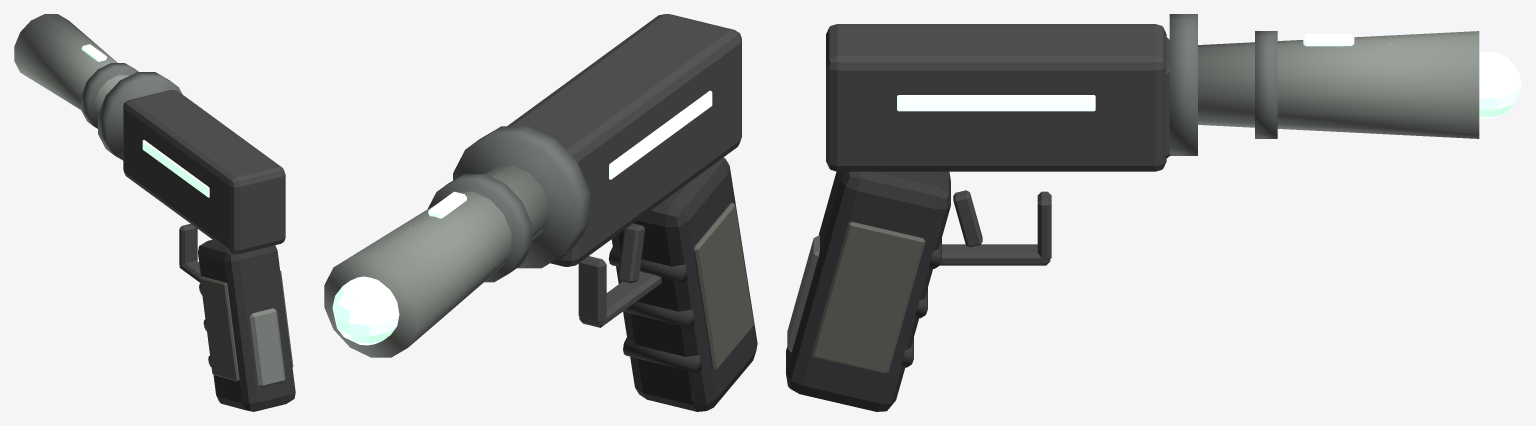
Rendered from plasma_pistol.glb.
3 views of the same model, side by side, from view 1: azimuth 30°, elevation 25°; view 2: azimuth 150°, elevation 25°; view 3: azimuth 270°, elevation 25° (orthographic). The views are drawn at different scales.
Visible parts, largest first — view 1: Plasma_pistol; view 2: Plasma_pistol; view 3: Plasma_pistol.
Part boxes in pixels (x1=…): Plasma_pistol: x1=14, y1=14, x2=295, y2=411; Plasma_pistol: x1=324, y1=14, x2=757, y2=411; Plasma_pistol: x1=786, y1=14, x2=1521, y2=411.
Size of the model in its own units: 0.0487 by 0.1471 by 0.259.
